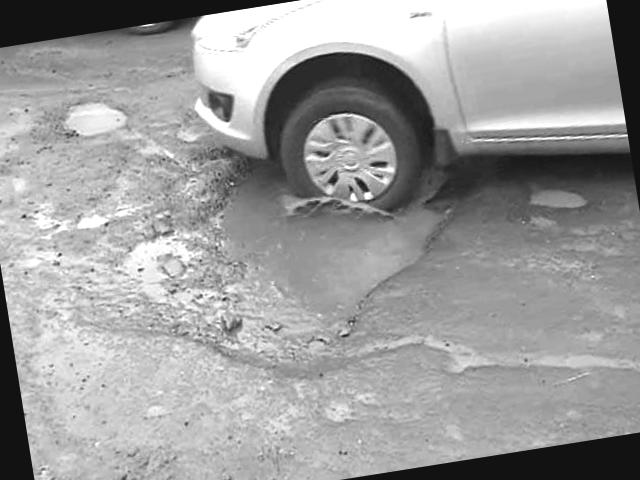Pothole: (96, 79, 500, 432), (484, 144, 599, 244), (48, 84, 154, 156), (0, 156, 39, 210)
